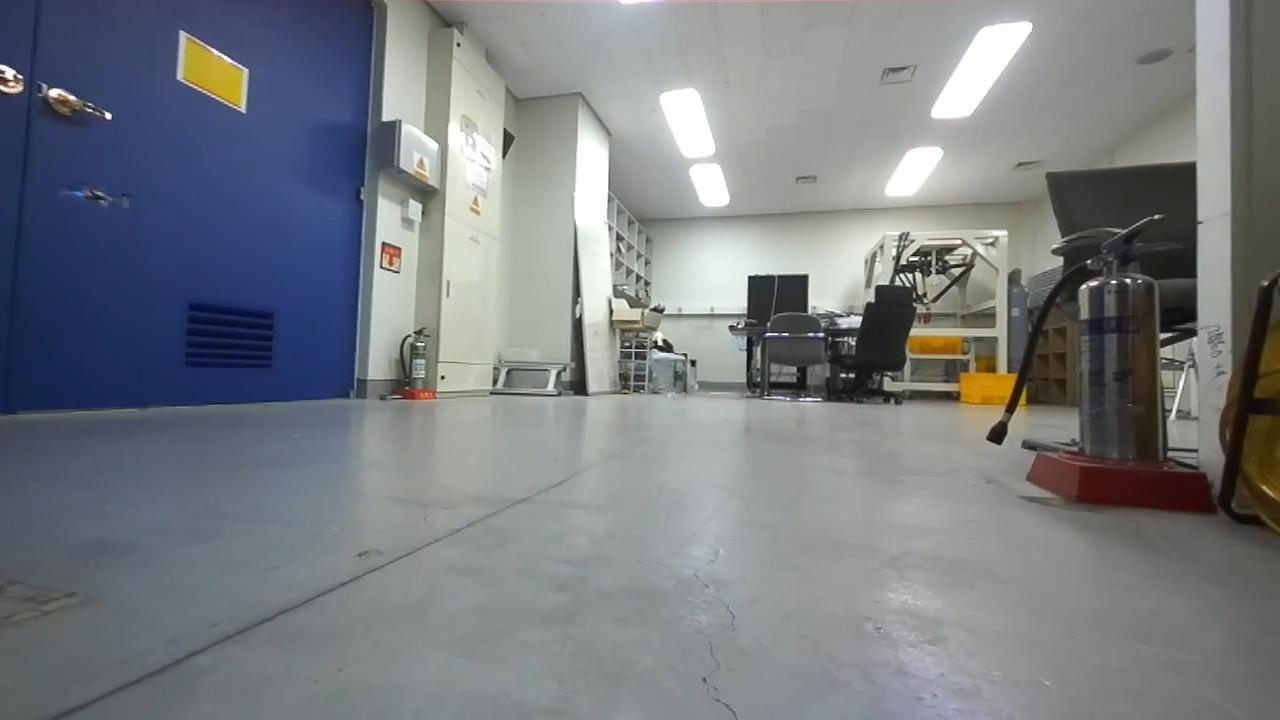crazyflie: (56, 178, 133, 214)
